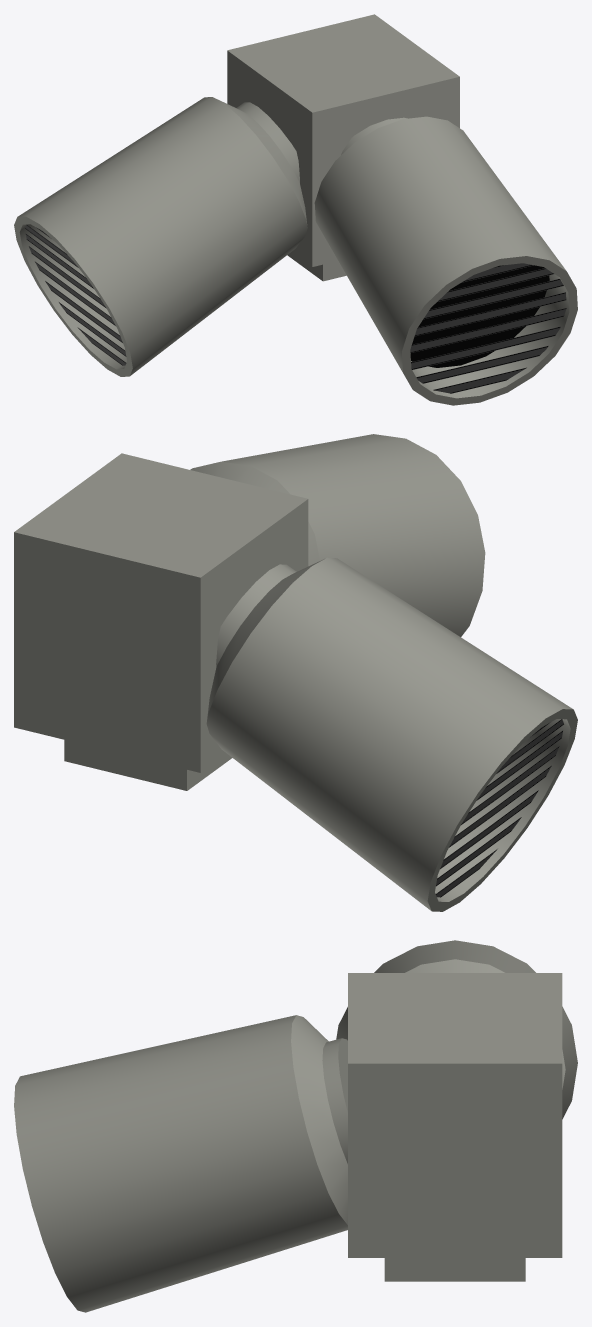
File: HautParleur.fbx
The picture shows the model from 3 angles, top to bottom: view 1: azimuth 30°, elevation 25°; view 2: azimuth 150°, elevation 25°; view 3: azimuth 270°, elevation 25°; orthographic projection. The views are drawn at different scales.
Visible parts, largest first — view 1: pCylinder1, pasted__pCylinder2, pCube1, pasted__pasted__pCylinder1, pasted__pCylinder1; view 2: pCylinder1, pCube1, pasted__pCylinder2, pasted__pCylinder1; view 3: pasted__pCylinder2, pCube1, pCylinder1.
Part boxes in pixels (bbox=[...]): pCylinder1: bbox=[14, 97, 307, 376]; pasted__pCylinder2: bbox=[314, 116, 577, 405]; pCube1: bbox=[227, 14, 459, 281]; pasted__pasted__pCylinder1: bbox=[410, 263, 566, 393]; pasted__pCylinder1: bbox=[25, 224, 126, 365]; pCylinder1: bbox=[206, 557, 577, 911]; pCube1: bbox=[14, 453, 308, 790]; pasted__pCylinder2: bbox=[190, 434, 485, 636]; pasted__pCylinder1: bbox=[435, 719, 563, 897]; pasted__pCylinder2: bbox=[14, 1015, 347, 1312]; pCube1: bbox=[348, 973, 562, 1281]; pCylinder1: bbox=[336, 940, 577, 1119].
Bounding box in the file's own units: 7.2 × 4.51 × 7.39.
